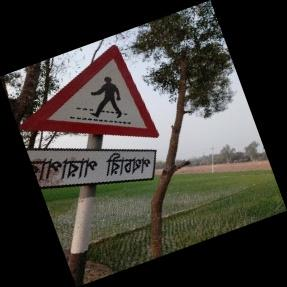Pedestrian-crossing: (19, 45, 160, 188)
